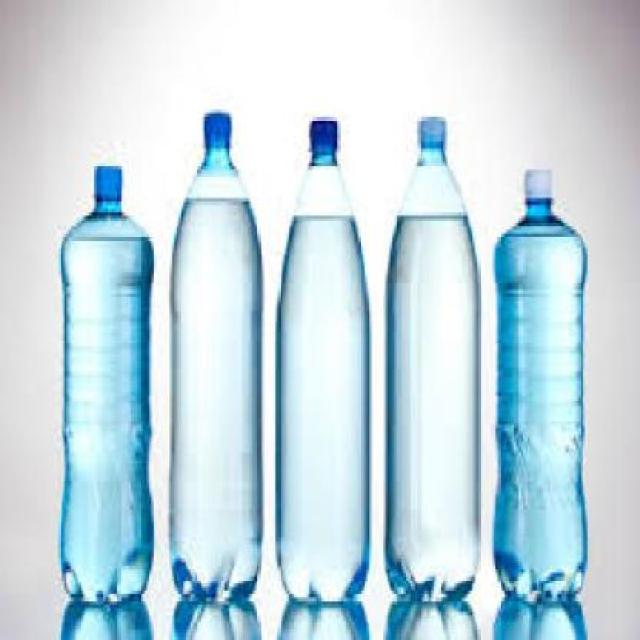PLASTIC: (168, 106, 262, 605), (383, 113, 477, 605), (273, 113, 367, 605), (57, 163, 154, 612), (490, 162, 584, 606), (304, 117, 336, 163), (199, 105, 232, 148), (415, 113, 443, 156), (92, 158, 119, 198), (522, 166, 548, 199)
